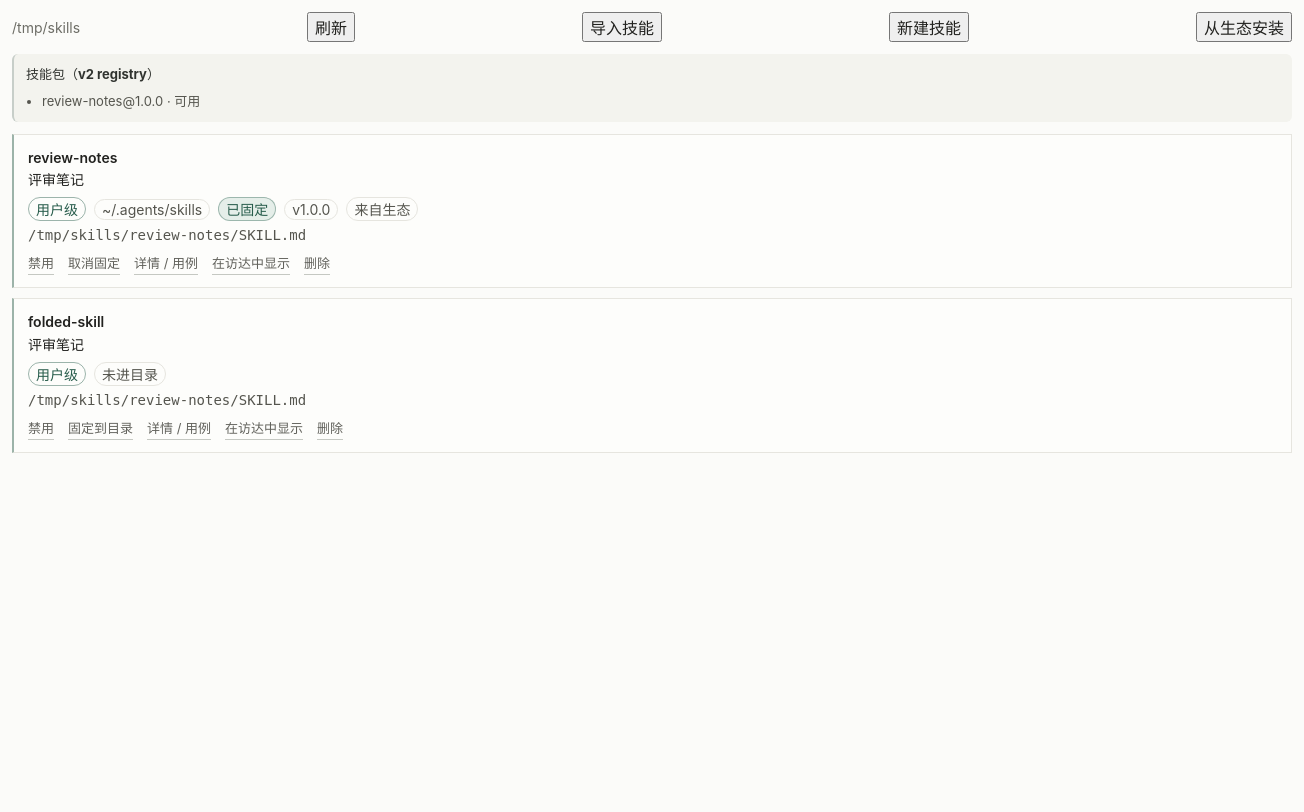
Test: 技能工作台（S2） › 新建表单要求必填项
The width and height of the screenshot is (1304, 812).
Click the button "新建技能". click: coordinates (929, 27)
box: [889,12,969,42]
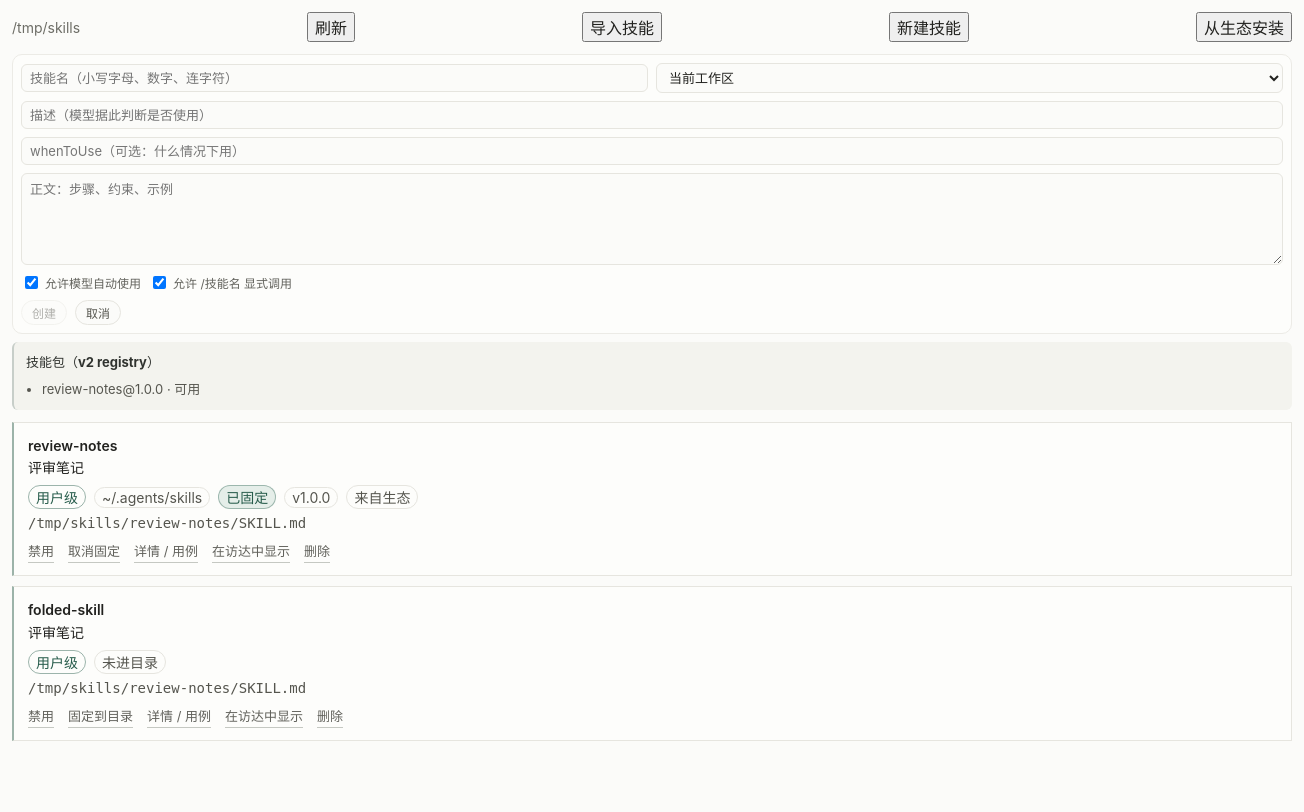
Check: the button "创建" is disabled, box [21,300,67,325]
